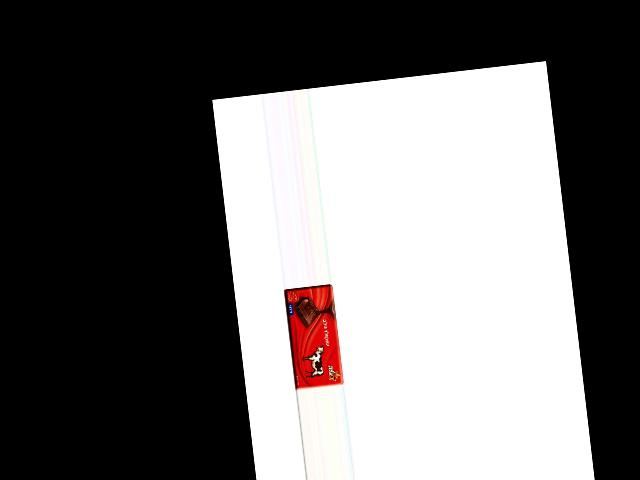chocolate: (284, 283, 344, 390)
